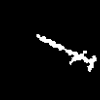double_crochet: (37, 34, 95, 71)
